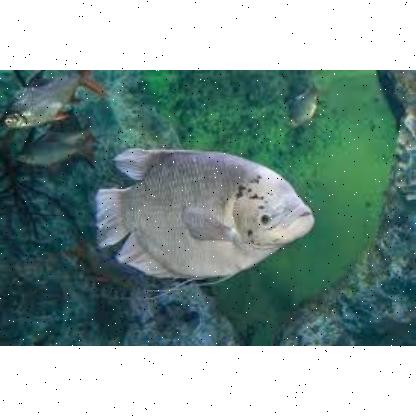gurame: (101, 150, 315, 284)
